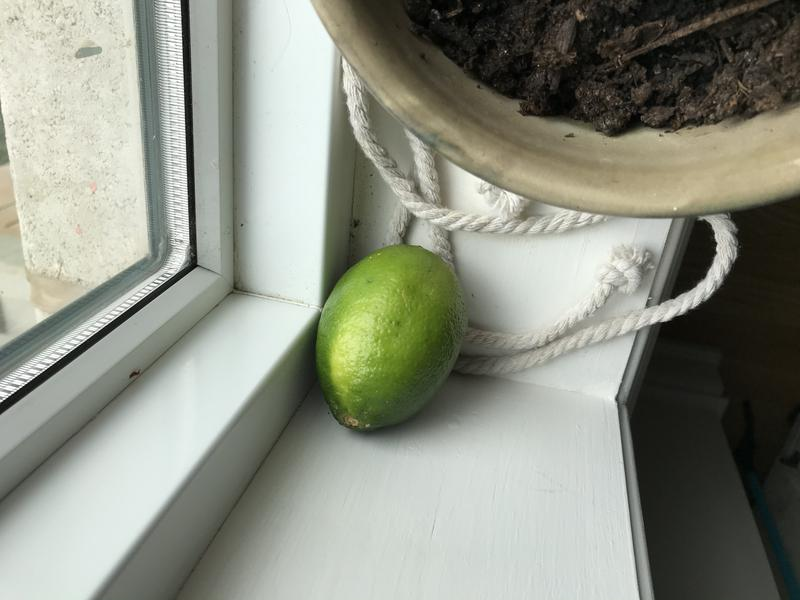lime: (299, 238, 470, 450)
